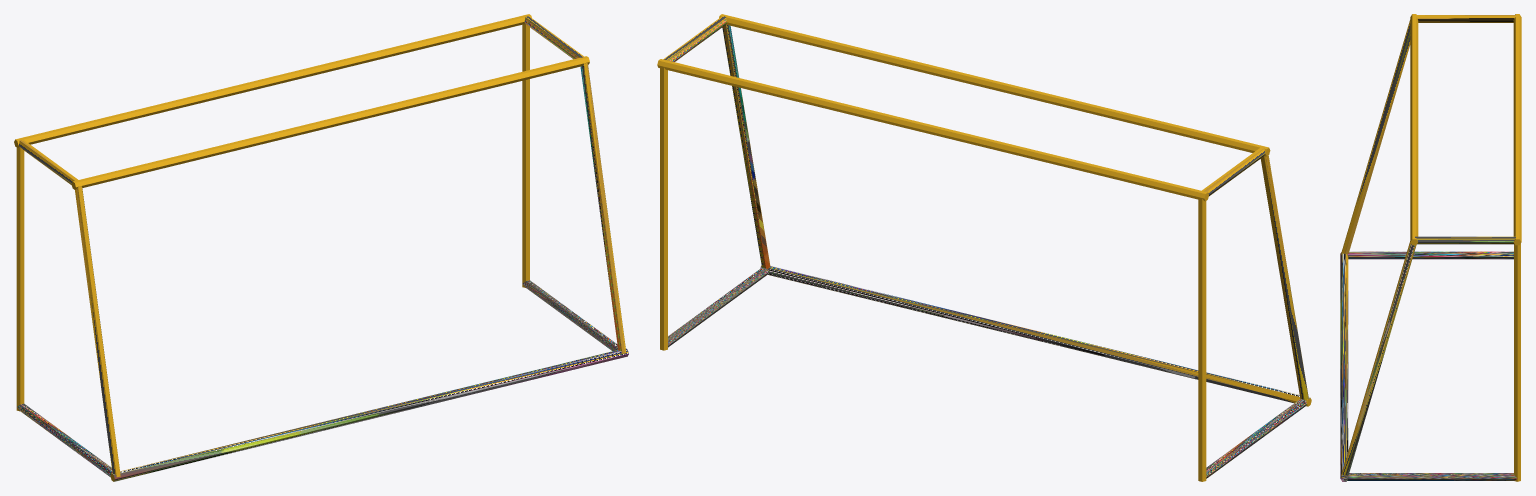
File: Goal.fbx
3 views of the same model, side by side, from view 1: azimuth 30°, elevation 25°; view 2: azimuth 150°, elevation 25°; view 3: azimuth 270°, elevation 25° (orthographic). The views are drawn at different scales.
Visible parts, largest first — view 1: fence02_2_mid; view 2: fence02_2_mid; view 3: fence02_2_mid.
Part boxes in pixels (left/top/right/bottom): fence02_2_mid: left=14, top=14, right=628, bottom=481; fence02_2_mid: left=657, top=14, right=1311, bottom=481; fence02_2_mid: left=1340, top=14, right=1521, bottom=481.
Size of the model in its own units: 405 by 203 by 138.
